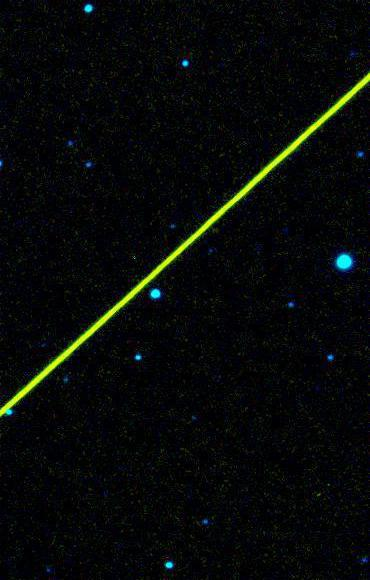star: (337, 41, 367, 71)
